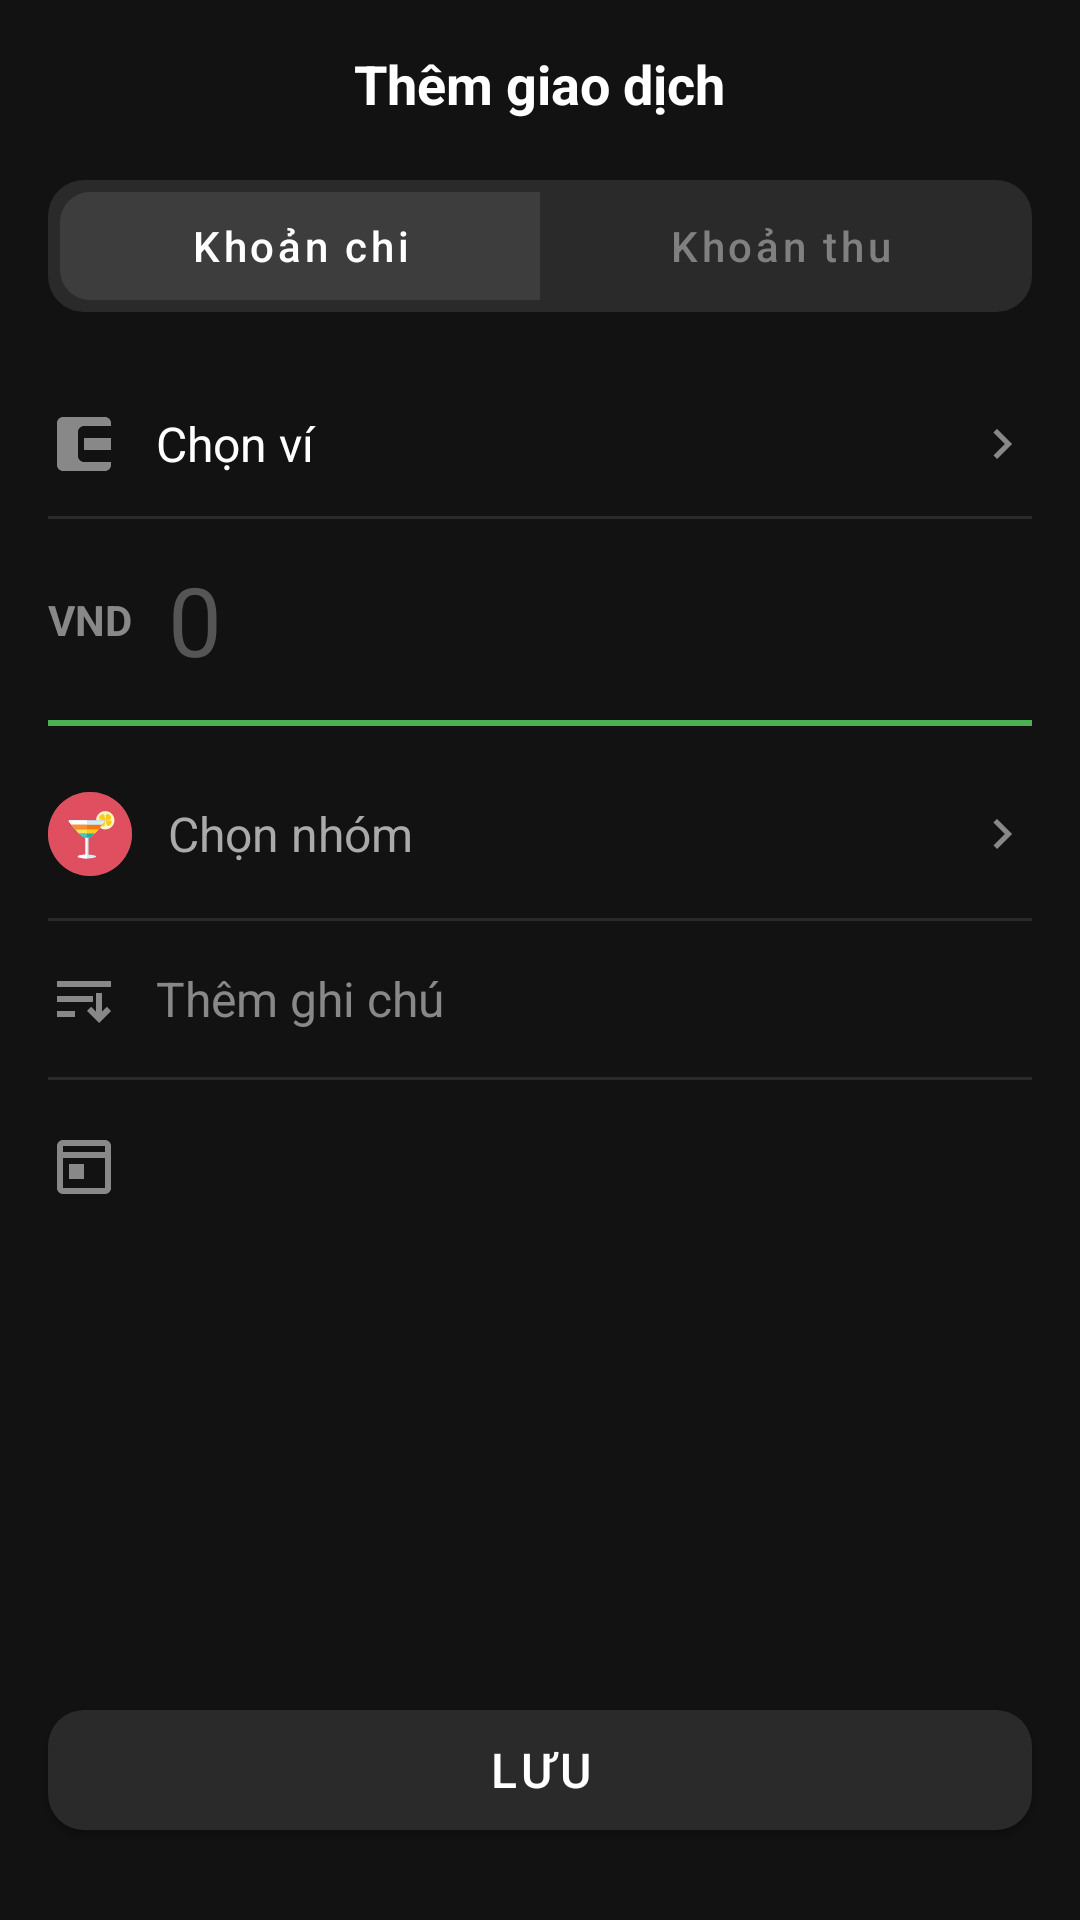

Named icons in this screenshot (1080 x 1920) and their centers, [x,y]:
calendar: [84,1167]
chevron right: [1002,444], [1002,834]
sort: [84,1002]
wallet: [84,444]
